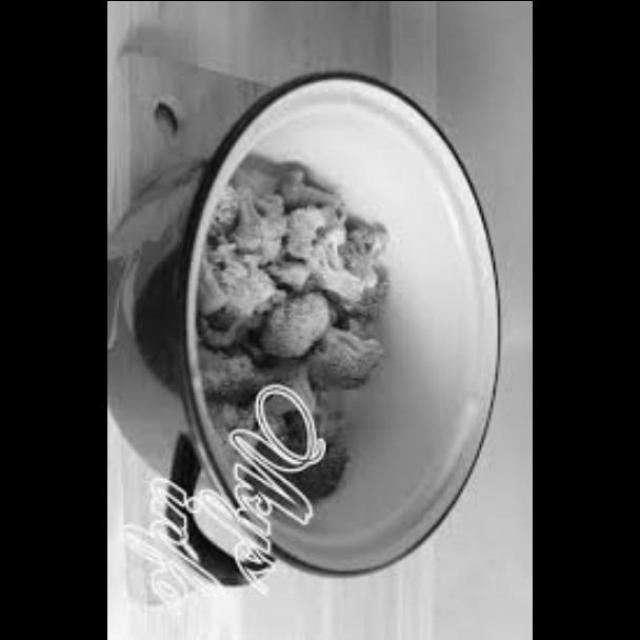bong cai xanh: (173, 154, 410, 423)
